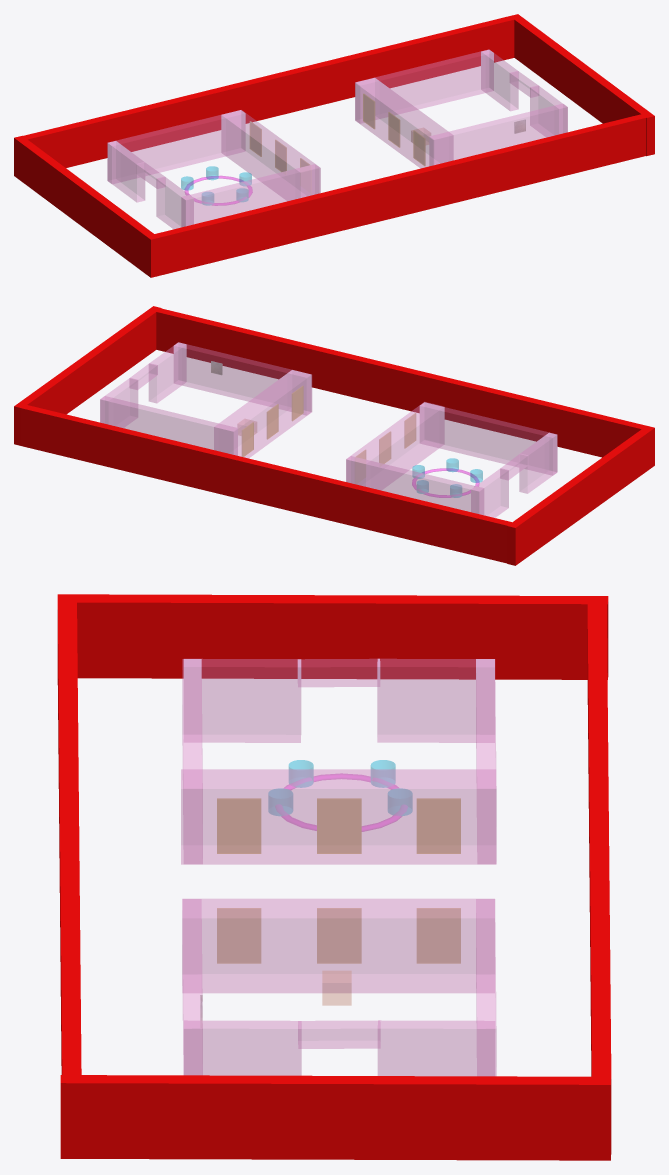
File: test_pic.glb
3 views of the same model, one above another, from view 1: azimuth 30°, elevation 25°; view 2: azimuth 150°, elevation 25°; view 3: azimuth 270°, elevation 25° (orthographic). The views are drawn at different scales.
Parts seen in each view (by area): view 1: Outside_Wall, Room2, Room1, Picture_Frames, Pillars; view 2: Outside_Wall, Room1, Room2, Picture_Frames, Pillars; view 3: Outside_Wall, Room2, Room1, Picture_Frames, Pillars, Stand, Circle.
Boxes of the visible parts, bbox=[...] form: Outside_Wall: bbox=[14, 14, 654, 277]; Room2: bbox=[107, 110, 320, 228]; Room1: bbox=[355, 49, 567, 168]; Picture_Frames: bbox=[250, 94, 425, 171]; Pillars: bbox=[181, 166, 251, 205]; Outside_Wall: bbox=[14, 306, 654, 565]; Room1: bbox=[100, 342, 311, 458]; Room2: bbox=[346, 402, 557, 517]; Picture_Frames: bbox=[242, 386, 415, 463]; Pillars: bbox=[412, 458, 482, 497]; Outside_Wall: bbox=[57, 594, 611, 1160]; Room2: bbox=[181, 658, 496, 864]; Room1: bbox=[182, 899, 496, 1076]; Picture_Frames: bbox=[217, 798, 460, 963]; Pillars: bbox=[268, 760, 412, 815]; Stand: bbox=[322, 971, 351, 1005]; Circle: bbox=[282, 773, 401, 831].
Bounding box in the file's own units: 10.57 × 0.7691 × 5.04.
8 materials, 1 textured.
